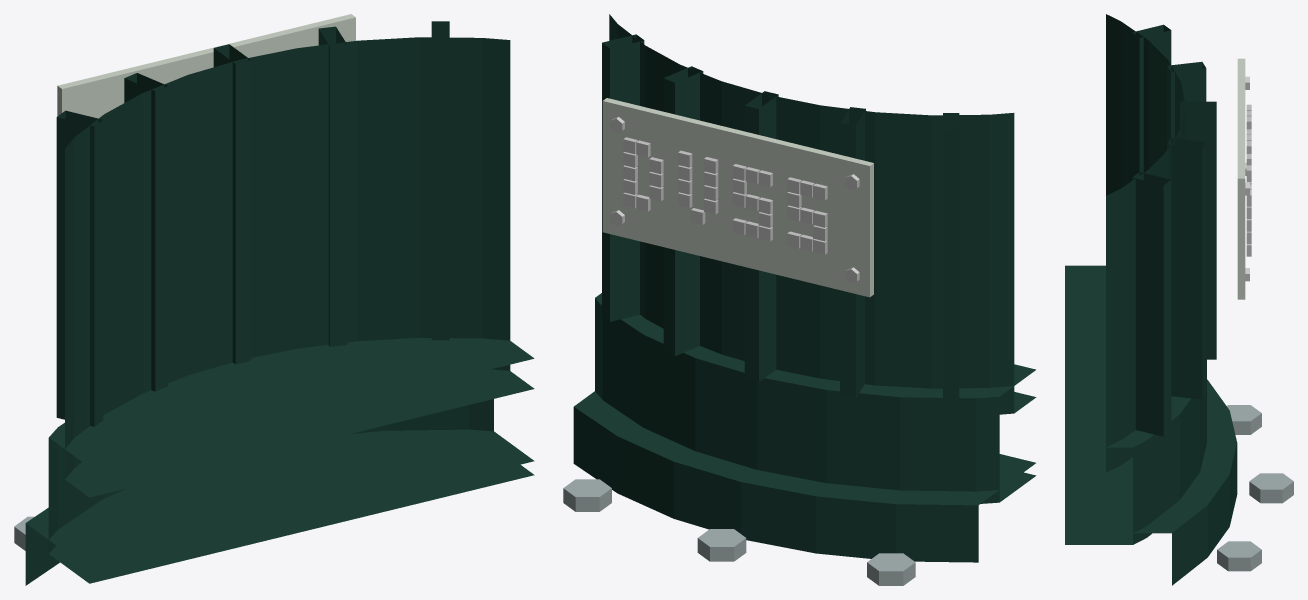
Rendered from cell_37.obj.
3 views of the same model, side by side, from view 1: azimuth 30°, elevation 25°; view 2: azimuth 150°, elevation 25°; view 3: azimuth 270°, elevation 25° (orthographic). The views are drawn at different scales.
Bounding box in the file's own units: 1 × 1 × 0.532.
